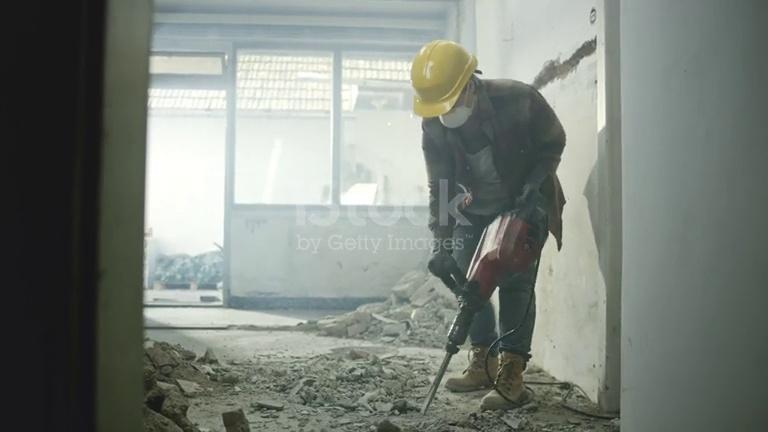helmet: (411, 40, 478, 117)
mask: (439, 100, 475, 128)
person: (405, 39, 570, 411)
